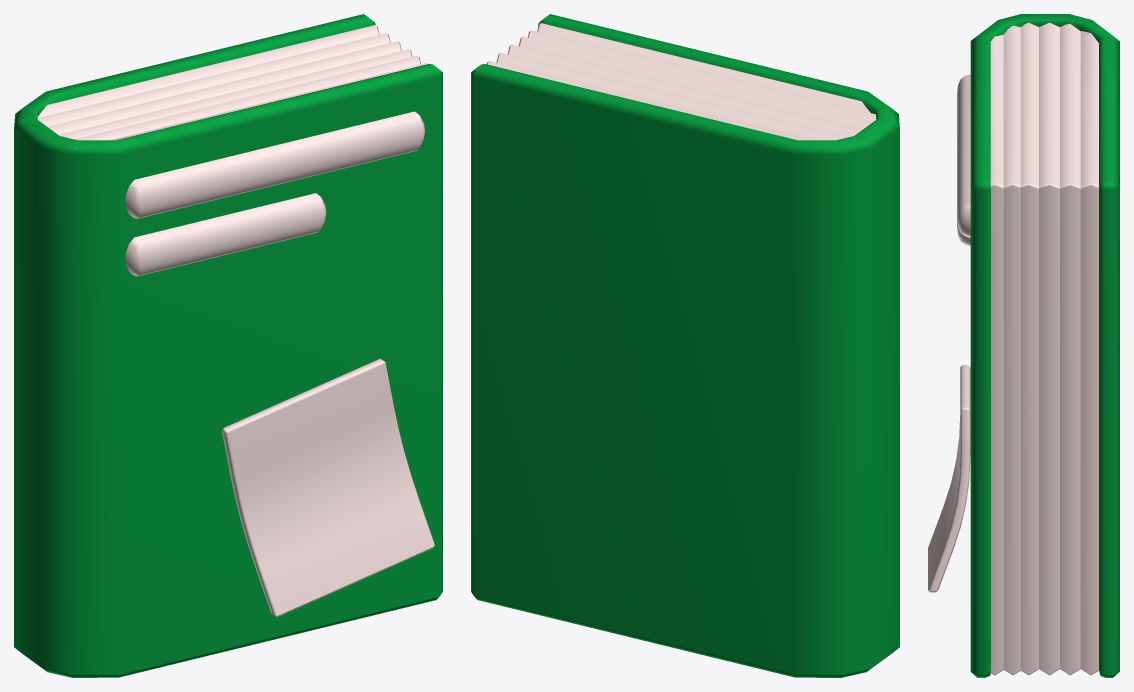
File: Public_8_Book_2.glb
The picture shows the model from 3 angles, left to right: view 1: azimuth 30°, elevation 25°; view 2: azimuth 150°, elevation 25°; view 3: azimuth 270°, elevation 25°; orthographic projection. The views are drawn at different scales.
Visible parts, largest first — view 1: Public_8_Book_2; view 2: Public_8_Book_2; view 3: Public_8_Book_2.
Boxes of the visible parts, x1,y1,x2,y2 form: Public_8_Book_2: (14, 14, 442, 677); Public_8_Book_2: (471, 14, 899, 677); Public_8_Book_2: (928, 14, 1119, 677).
Bounding box in the file's own units: 1.03 × 1.39 × 0.4844.
1 material, 1 textured.
